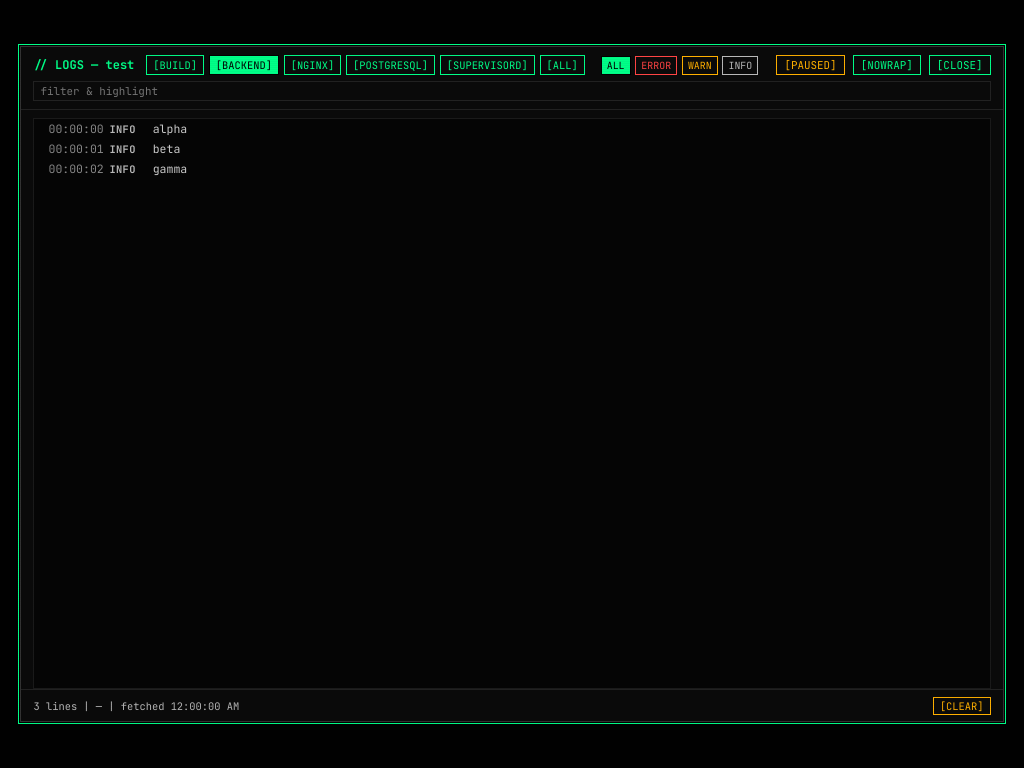
Scenario: LogPanel — combined filter + highlight input › shows "N of M lines" in the footer when a filter is active
This screenshot has width=1024, height=768.
Expected: the text "alpha" is shown, [153,122,187,136]
Type "alpha" into the field with placeholder "filter & highlight". click: (512, 92)
box: [34,82,990,102]
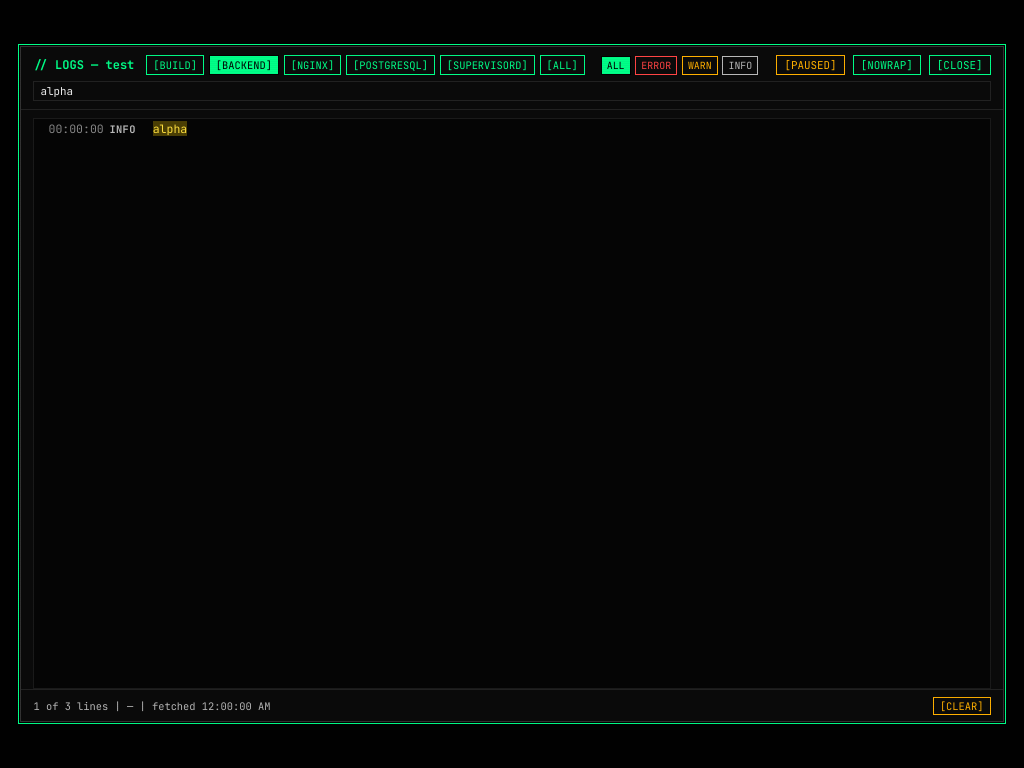
Expected: the text "1 of 3 lines | — | fetched 12:00:00 AM" is shown, [34,698,270,712]
